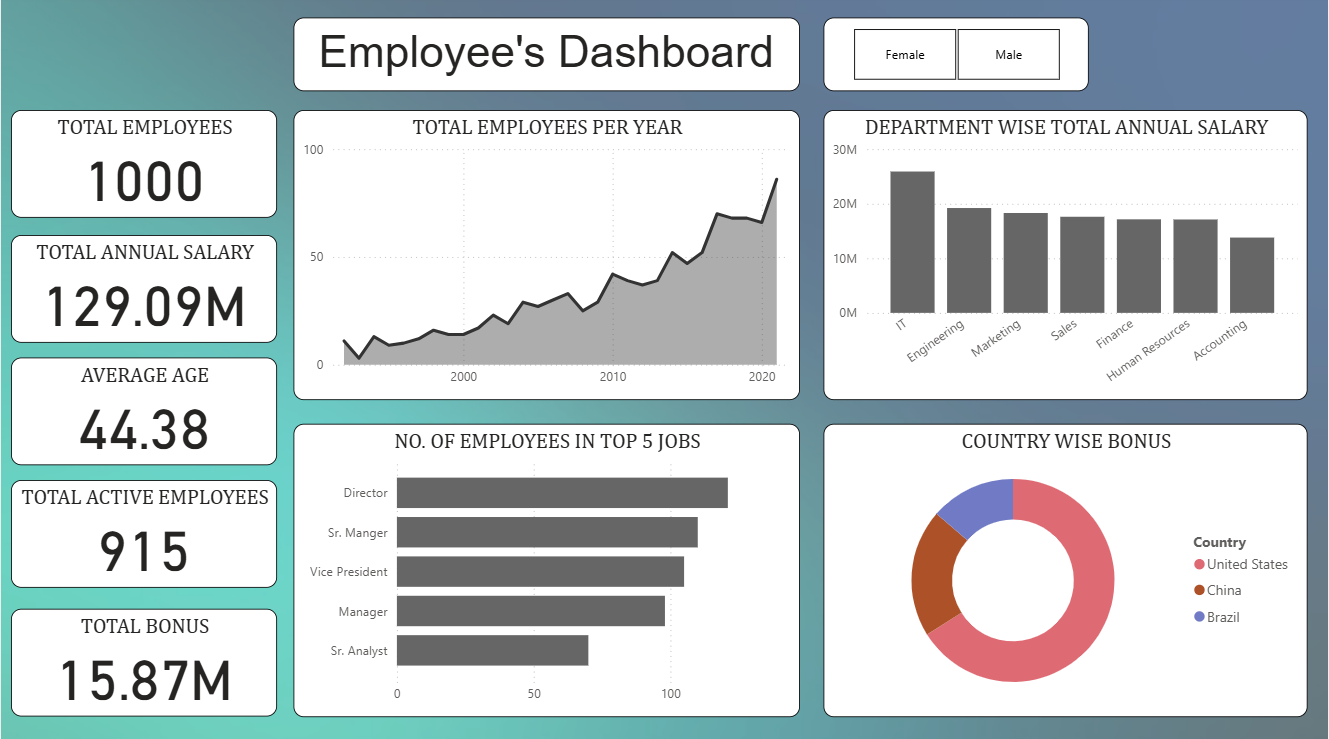

The page's visual inventory and layout, read from the dashboard file:
{"tool":"powerbi","page":{"name":"Page 2","canvas":[1280,720],"ordinal":0},"visuals":[{"type":"card","title":"TOTAL EMPLOYEES","fields":{"Values":["CountNonNull(raw data.Employee Id)"]},"box":[10,111.4,257.1,104.3],"z":0},{"type":"textbox","box":[282.9,21.4,488.6,71.4],"z":1000},{"type":"card","title":"TOTAL ANNUAL SALARY","fields":{"Values":["Sum(raw data.Total Annual Salary)"]},"box":[10,231.4,257.1,104.3],"z":2000},{"type":"card","title":"AVERAGE AGE ","fields":{"Values":["Avg(raw data.Age)"]},"box":[10,350,257.1,104.3],"z":3000},{"type":"card","title":"TOTAL ACTIVE EMPLOYEES","fields":{"Values":["raw data.Active Employees"]},"box":[10,468.6,257.1,104.3],"z":4000},{"type":"card","title":"TOTAL BONUS","fields":{"Values":["Sum(raw data.Total Bonus)"]},"box":[10,592.9,257.1,104.3],"z":5000},{"type":"areaChart","title":"TOTAL EMPLOYEES PER YEAR","fields":{"Category":["raw data.Hire Date.Variation.Date Hierarchy.Year"],"Y":["CountNonNull(raw data.Employee Id)"]},"box":[282.9,111.4,488.6,280],"z":6000},{"type":"columnChart","title":"DEPARTMENT WISE TOTAL ANNUAL SALARY","fields":{"Y":["Sum(raw data.Total Annual Salary)"],"Category":["raw data.Department"]},"box":[794.3,111.4,467.1,280],"z":7000},{"type":"barChart","title":"NO. OF EMPLOYEES IN TOP 5 JOBS","fields":{"Category":["raw data.Job Title"],"Y":["CountNonNull(raw data.Employee Id)"]},"box":[282.9,414.3,488.6,282.9],"z":8000},{"type":"slicer","title":"GENDER","fields":{"Values":["raw data.Gender"]},"box":[794.3,21.4,255.7,71.4],"z":9000},{"type":"donutChart","title":"COUNTRY WISE BONUS","fields":{"Category":["raw data.Country"],"Y":["Sum(raw data.Total Bonus)"]},"box":[794.3,414.3,467.1,282.9],"z":10000}]}

Visuals, with their boxes in screenshot pixels (x1, y1, x2, y2), scaled from the page's 1280x720 canvas onto the 1329x739 screenshot:
"TOTAL EMPLOYEES" card: <region>10, 114, 277, 221</region>
textbox: <region>294, 22, 801, 95</region>
"TOTAL ANNUAL SALARY" card: <region>10, 238, 277, 345</region>
"AVERAGE AGE " card: <region>10, 359, 277, 466</region>
"TOTAL ACTIVE EMPLOYEES" card: <region>10, 481, 277, 588</region>
"TOTAL BONUS" card: <region>10, 609, 277, 716</region>
"TOTAL EMPLOYEES PER YEAR" areaChart: <region>294, 114, 801, 402</region>
"DEPARTMENT WISE TOTAL ANNUAL SALARY" columnChart: <region>825, 114, 1310, 402</region>
"NO. OF EMPLOYEES IN TOP 5 JOBS" barChart: <region>294, 425, 801, 716</region>
"GENDER" slicer: <region>825, 22, 1090, 95</region>
"COUNTRY WISE BONUS" donutChart: <region>825, 425, 1310, 716</region>
